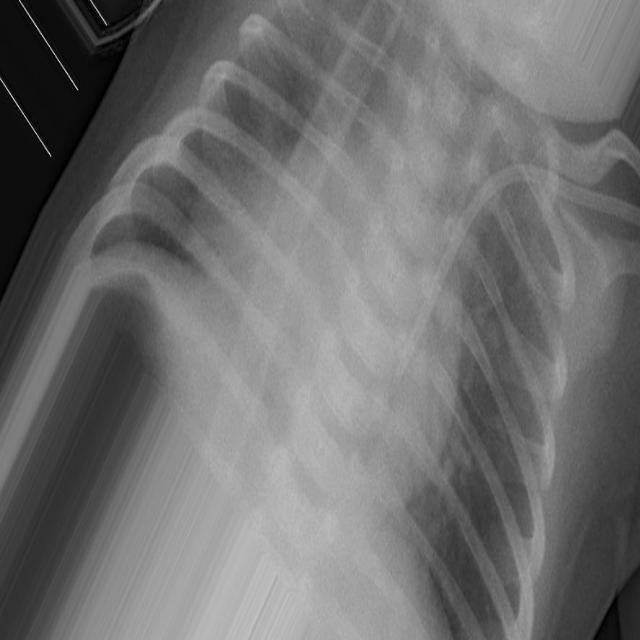viral_pneumonia: (1, 2, 640, 640)
